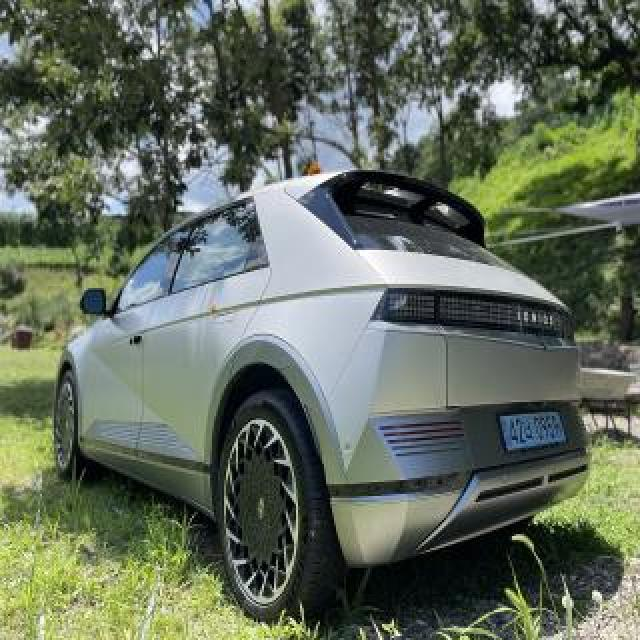EV_plate: (503, 409, 567, 457)
car: (56, 164, 600, 622)
